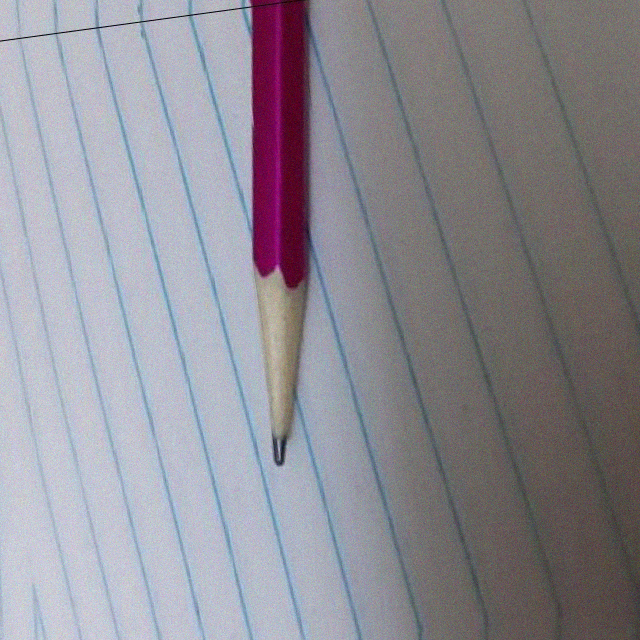pencil: (224, 256, 331, 477)
